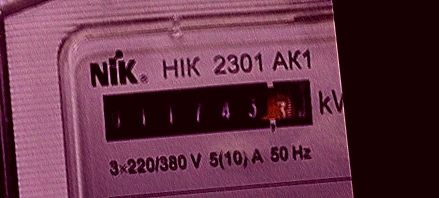0: (108, 102, 125, 130)
1: (135, 99, 152, 128), (163, 97, 179, 126)
3: (244, 92, 261, 120), (274, 99, 291, 121)
4: (218, 96, 235, 122)
7: (190, 97, 207, 123)
screen: (94, 66, 325, 154)
